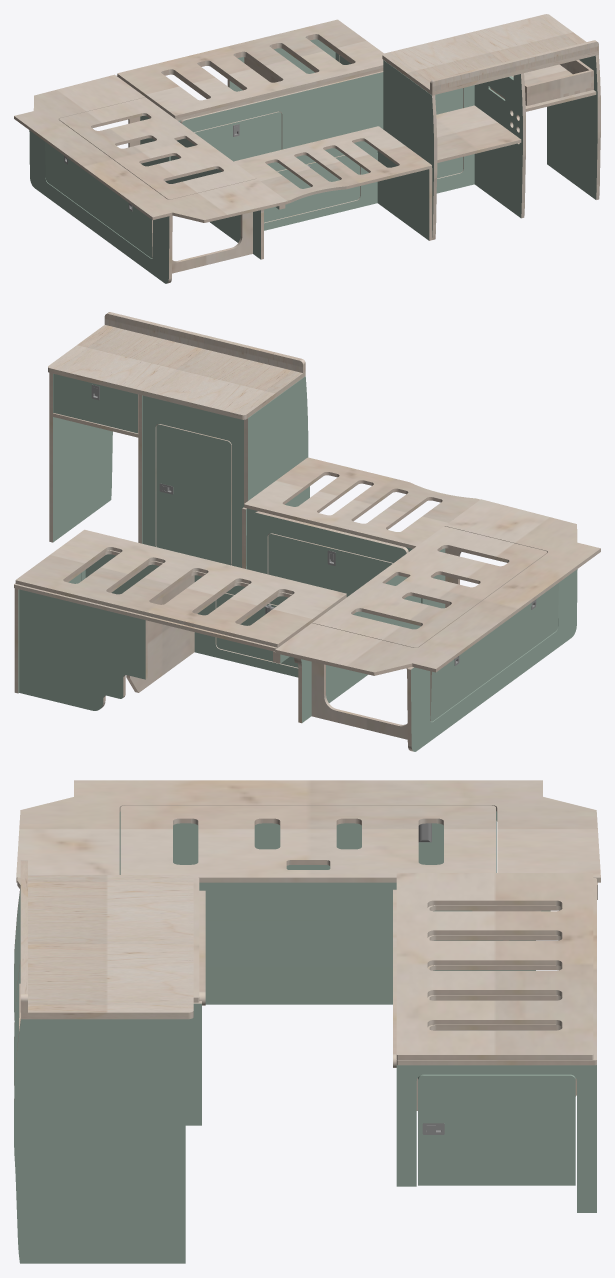
The picture shows the model from 3 angles, top to bottom: view 1: azimuth 30°, elevation 25°; view 2: azimuth 150°, elevation 25°; view 3: azimuth 270°, elevation 25°; orthographic projection. The views are drawn at different scales.
Parts seen in each view (by area): view 1: Body1.014, Body1.018, Body1.004, Body1.025, Body1.011, Body1.019, Body1.046, Body1.044, Body1.040, Body1.023, Body1.017, Body1.028 (+15 smaller); view 2: Body1.014, Body1.018, Body1.004, Body1.025, Body1.038, Body1.011, Body1.013, Body1.044, Body1.040, Body1.021, Body1.017, Body1.023 (+13 smaller); view 3: Body1.044, Body1.014, Body1.018, Body1.004, Body1.025, Body1.042, Body1.001, Body1.022, Body1.008, Body1.040, Body1.003, Body1.027 (+3 smaller).
Part boxes in pixels (x1=…): Body1.014: x1=117, y1=19, x2=383, y2=118; Body1.018: x1=14, y1=74, x2=287, y2=222; Body1.004: x1=59, y1=97, x2=256, y2=199; Body1.025: x1=382, y1=14, x2=598, y2=95; Body1.011: x1=234, y1=126, x2=431, y2=203; Body1.019: x1=178, y1=80, x2=383, y2=149; Body1.046: x1=474, y1=73, x2=525, y2=218; Body1.044: x1=547, y1=55, x2=600, y2=199; Body1.040: x1=45, y1=142, x2=152, y2=258; Body1.023: x1=383, y1=60, x2=437, y2=239; Body1.017: x1=29, y1=130, x2=172, y2=283; Body1.028: x1=436, y1=105, x2=521, y2=162; Body1.014: x1=15, y1=529, x2=346, y2=647; Body1.018: x1=275, y1=499, x2=600, y2=675; Body1.004: x1=312, y1=526, x2=547, y2=647; Body1.025: x1=48, y1=325, x2=305, y2=419; Body1.038: x1=19, y1=589, x2=147, y2=710; Body1.011: x1=244, y1=457, x2=480, y2=548; Body1.013: x1=156, y1=424, x2=231, y2=565; Body1.044: x1=49, y1=373, x2=112, y2=542; Body1.040: x1=430, y1=583, x2=558, y2=721; Body1.021: x1=142, y1=395, x2=243, y2=567; Body1.017: x1=407, y1=569, x2=577, y2=751; Body1.023: x1=244, y1=376, x2=308, y2=506; Body1.044: x1=14, y1=1019, x2=185, y2=1263; Body1.014: x1=396, y1=873, x2=593, y2=1059; Body1.018: x1=16, y1=780, x2=600, y2=882; Body1.004: x1=120, y1=805, x2=495, y2=882; Body1.025: x1=21, y1=875, x2=193, y2=1019; Body1.042: x1=199, y1=882, x2=535, y2=1004; Body1.001: x1=418, y1=1074, x2=575, y2=1185; Body1.022: x1=396, y1=1065, x2=596, y2=1212; Body1.008: x1=396, y1=878, x2=596, y2=1065; Body1.040: x1=173, y1=820, x2=496, y2=872; Body1.003: x1=185, y1=1001, x2=201, y2=1125; Body1.027: x1=20, y1=860, x2=27, y2=1012.
Size of the model in its own units: 2.31 by 0.8888 by 1.61.
4 materials, 2 textured.
